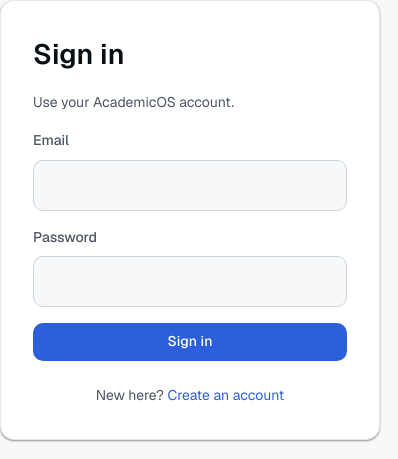
LoginForm › disables the submit button while the request is in flight
Type "jane@example.com" into the field labelled "Email" at [190, 185], box [33,160,347,211]
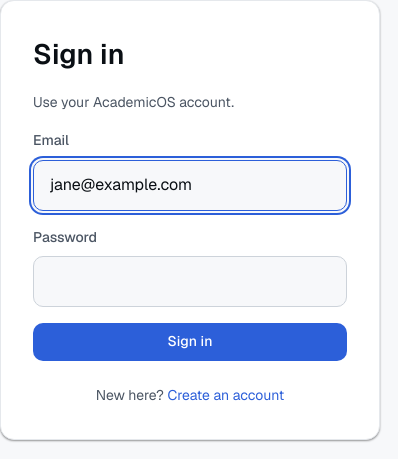
Type "password123" into the password field labelled "Password" at [190, 282], box [33,256,347,307]
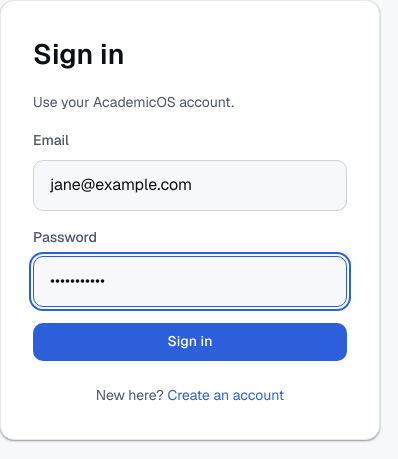
Click the button "Sign in" at [190, 342], box [33,323,347,361]
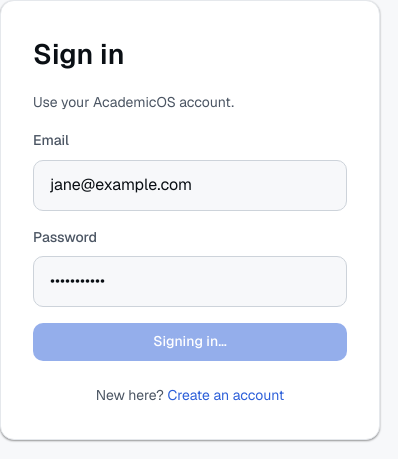
Check: the button "Signing in…" is disabled, box [33,323,347,361]
